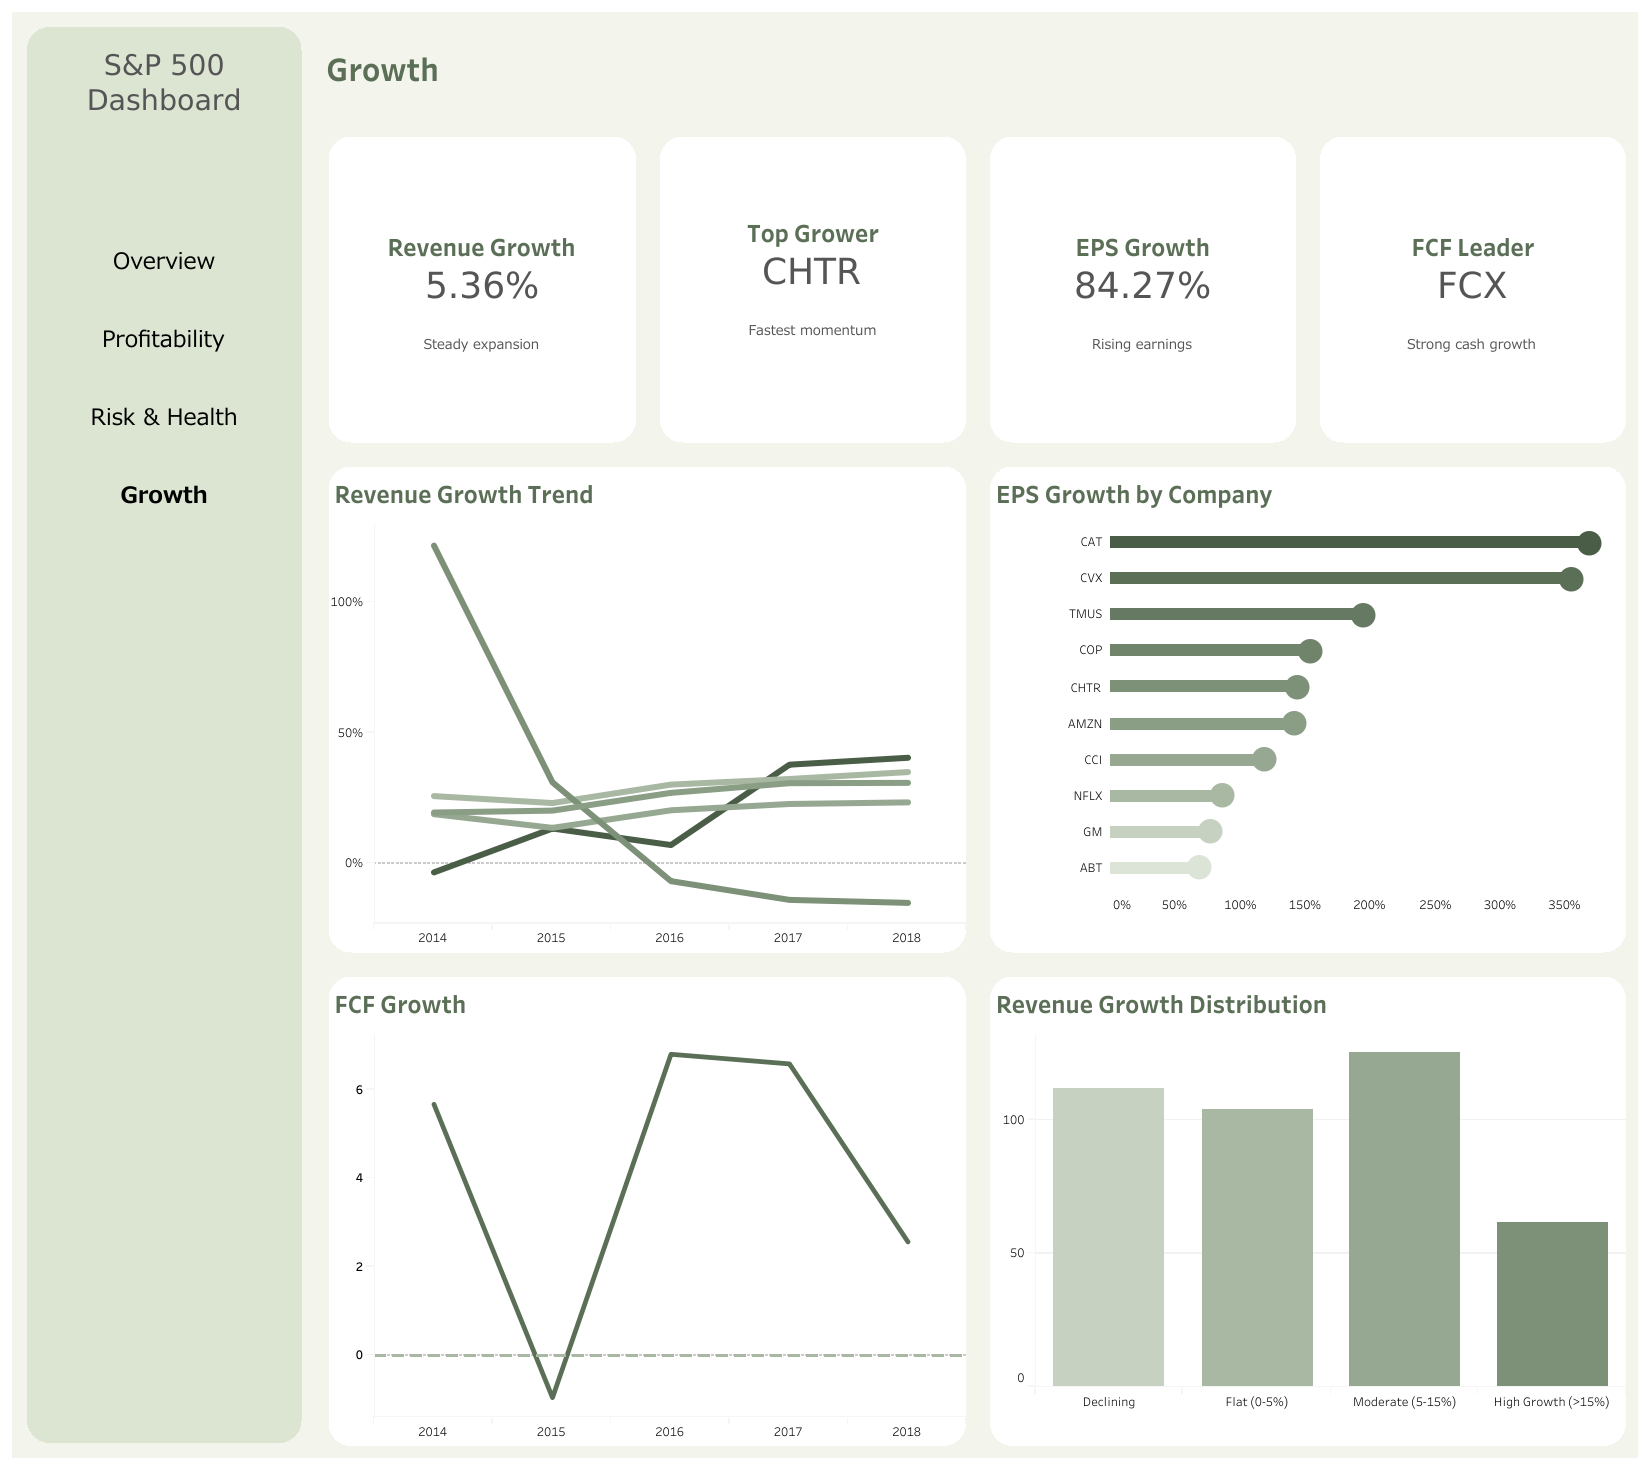

This screenshot's page, from the dashboard's own definition file:
{"tool":"tableau","page":{"name":"Dashboard 4","canvas":[1100,980],"ordinal":3},"visuals":[{"type":"text","box":[211,8,881,75]},{"type":"text","box":[28,28,163,84]},{"type":"worksheet","title":"kpi 4-1","mark":"Automatic","box":[211,83,221,220]},{"type":"worksheet","title":"kpi 4-2","mark":"Automatic","box":[432,83,220,220]},{"type":"worksheet","title":"kpi 4-3","mark":"Automatic","box":[652,83,220,220]},{"type":"worksheet","title":"kpi 4-4","mark":"Automatic","box":[872,83,220,220]},{"type":"blank","box":[28,112,163,65]},{"type":"dashboard-object","box":[28,177,163,52]},{"type":"dashboard-object","box":[28,229,163,52]},{"type":"dashboard-object","box":[28,281,163,52]},{"type":"worksheet","title":"graph 4-1","mark":"Line","rows":["Revenue Growth"],"cols":["Year"],"box":[211,303,441,340]},{"type":"worksheet","title":"graph 4-2","mark":"Automatic","rows":["Ticker"],"cols":["EPS Growth","EPS Growth"],"box":[652,303,440,340]},{"type":"dashboard-object","box":[28,333,163,52]},{"type":"worksheet","title":"grsph 4-3","mark":"Line","rows":["Free Cash Flow growth"],"cols":["Year"],"box":[211,643,441,329]},{"type":"worksheet","title":"graph 4-4","mark":"Bar","rows":["Ticker"],"cols":["Revenue_Growth_Label"],"box":[652,643,440,329]}]}

Visuals, with their boxes in screenshot pixels (x1, y1, x2, y2), scaled from the page's 1100x980 canvas onto the 1649x1469 screenshot:
text: [left=316, top=12, right=1637, bottom=124]
text: [left=42, top=42, right=286, bottom=168]
"kpi 4-1" worksheet: [left=316, top=124, right=648, bottom=454]
"kpi 4-2" worksheet: [left=648, top=124, right=977, bottom=454]
"kpi 4-3" worksheet: [left=977, top=124, right=1307, bottom=454]
"kpi 4-4" worksheet: [left=1307, top=124, right=1637, bottom=454]
blank: [left=42, top=168, right=286, bottom=265]
dashboard-object: [left=42, top=265, right=286, bottom=343]
dashboard-object: [left=42, top=343, right=286, bottom=421]
dashboard-object: [left=42, top=421, right=286, bottom=499]
"graph 4-1" worksheet (Line marks): [left=316, top=454, right=977, bottom=964]
"graph 4-2" worksheet: [left=977, top=454, right=1637, bottom=964]
dashboard-object: [left=42, top=499, right=286, bottom=577]
"grsph 4-3" worksheet (Line marks): [left=316, top=964, right=977, bottom=1457]
"graph 4-4" worksheet (Bar marks): [left=977, top=964, right=1637, bottom=1457]
